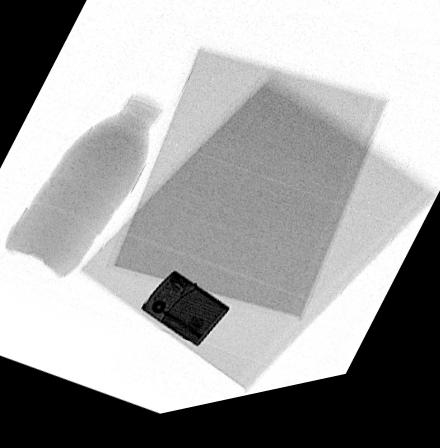Lighter: (140, 276, 230, 354)
